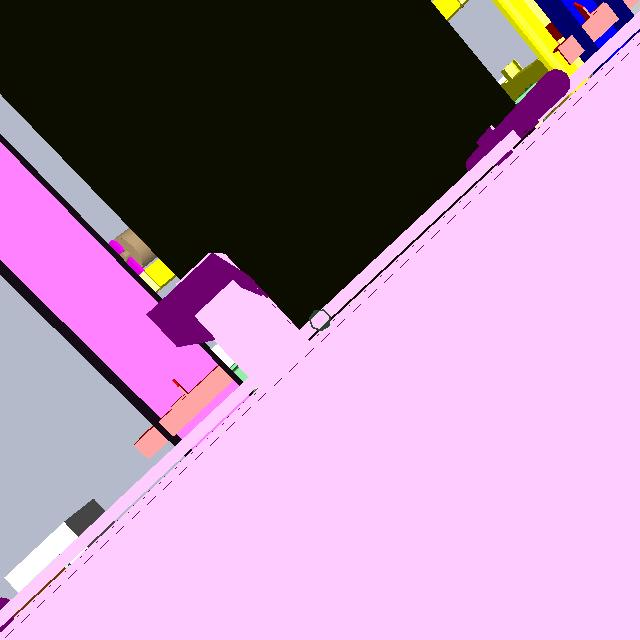Poste: (305, 301, 338, 344)
Soporte: (140, 241, 307, 405)
